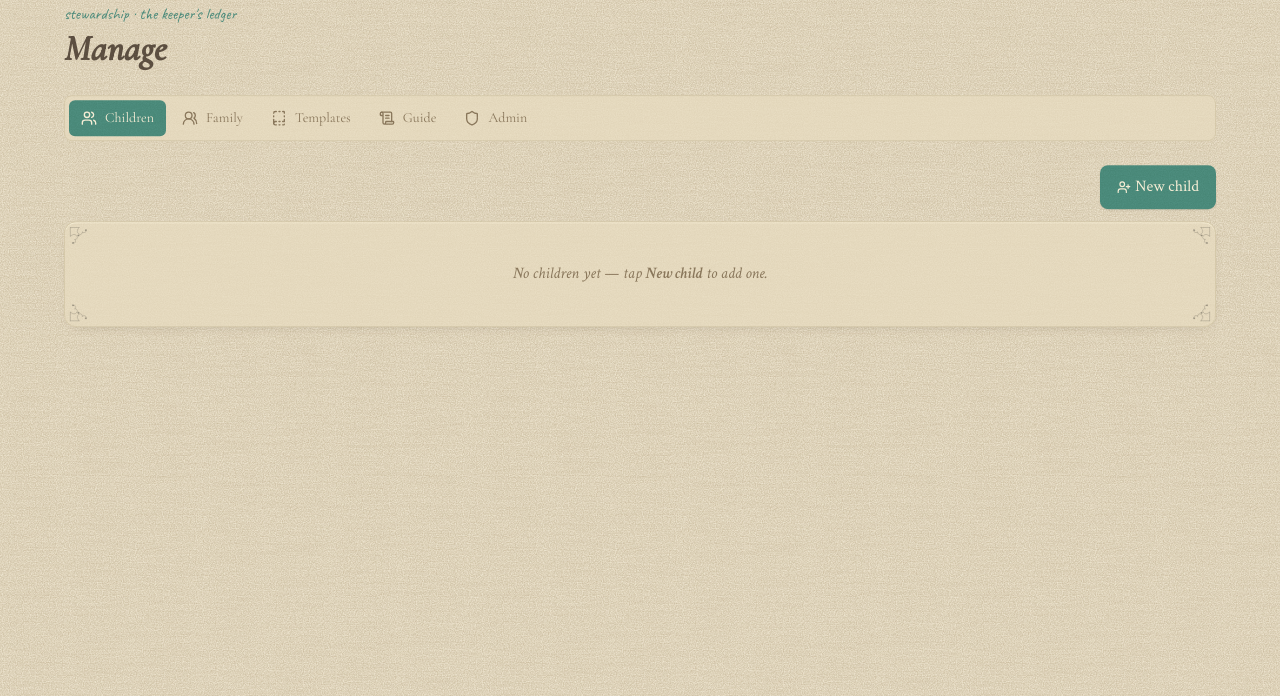
Test: Manage — Admin tab › shows the Admin tab when /api/admin/families/ returns 200 and posts a new family
Click the tab "Admin" at coordinates (496, 118), box [452, 100, 539, 136]
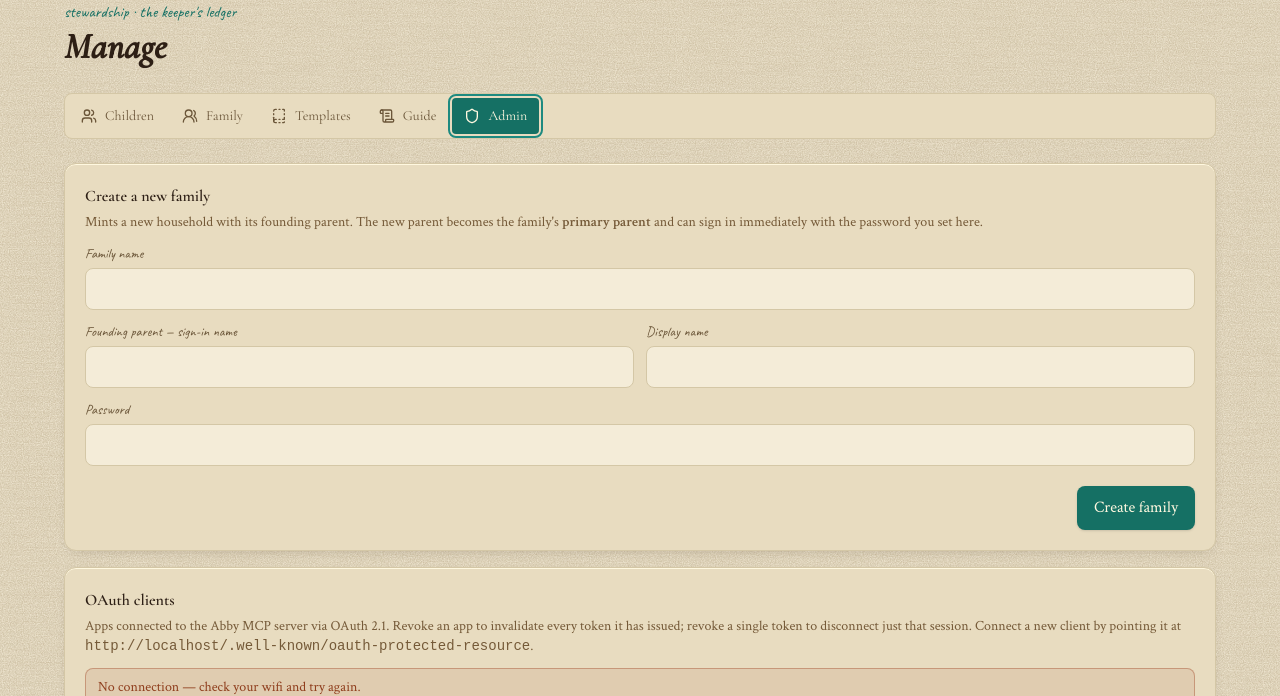
Type "New House" into the field labelled "Family name" at coordinates (640, 289), box [85, 268, 1195, 310]
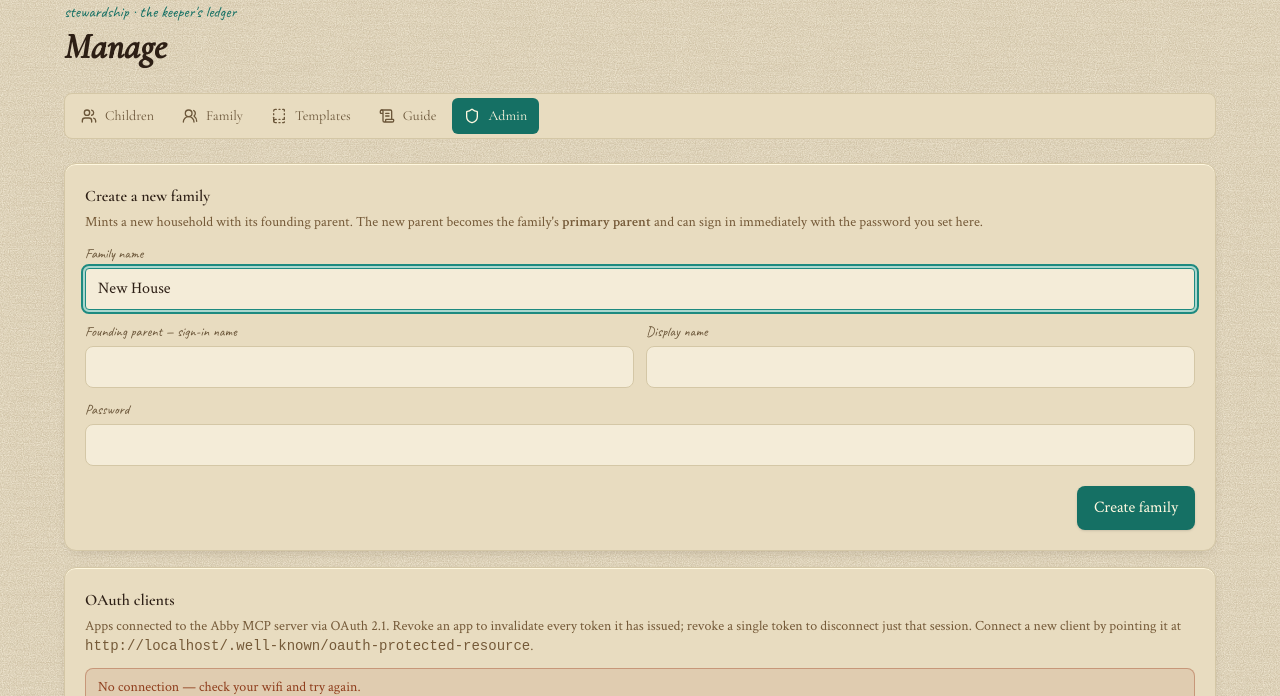
Type "founder" into the field labelled "Founding parent — sign-in name" at coordinates (360, 367), box [85, 346, 634, 388]
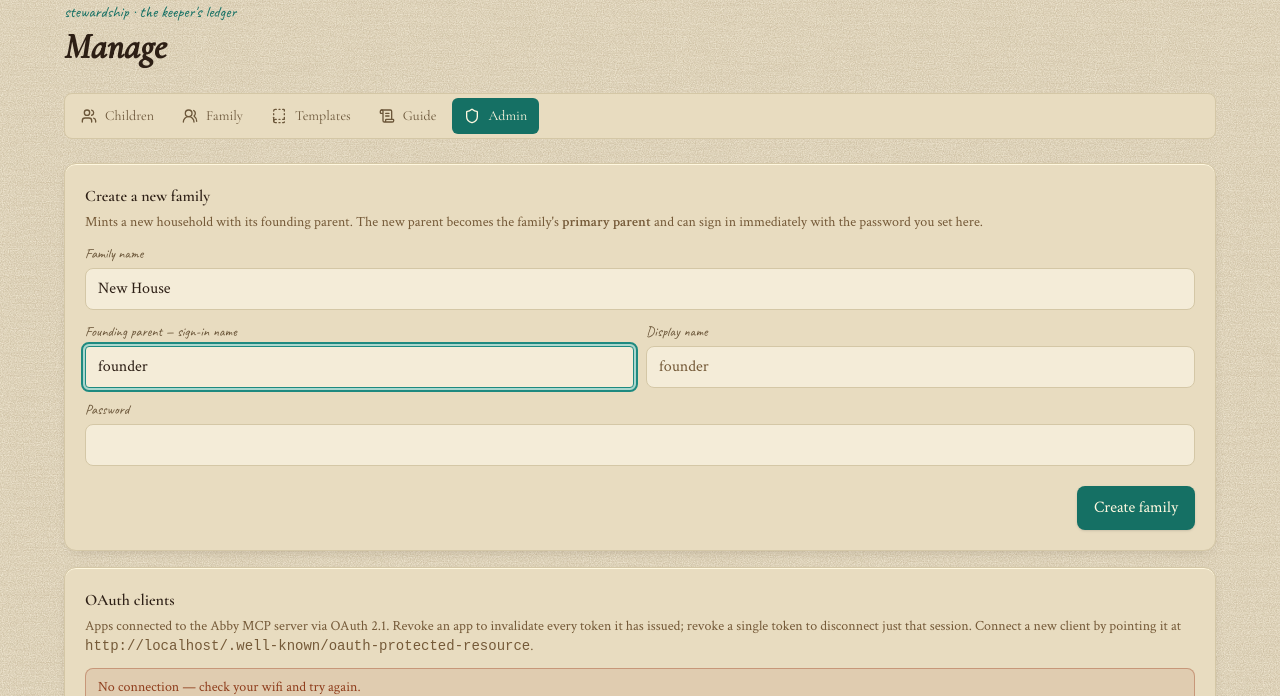
Type "ApbBy1!Strong" into the password field labelled "Password" at coordinates (640, 445), box [85, 424, 1195, 466]
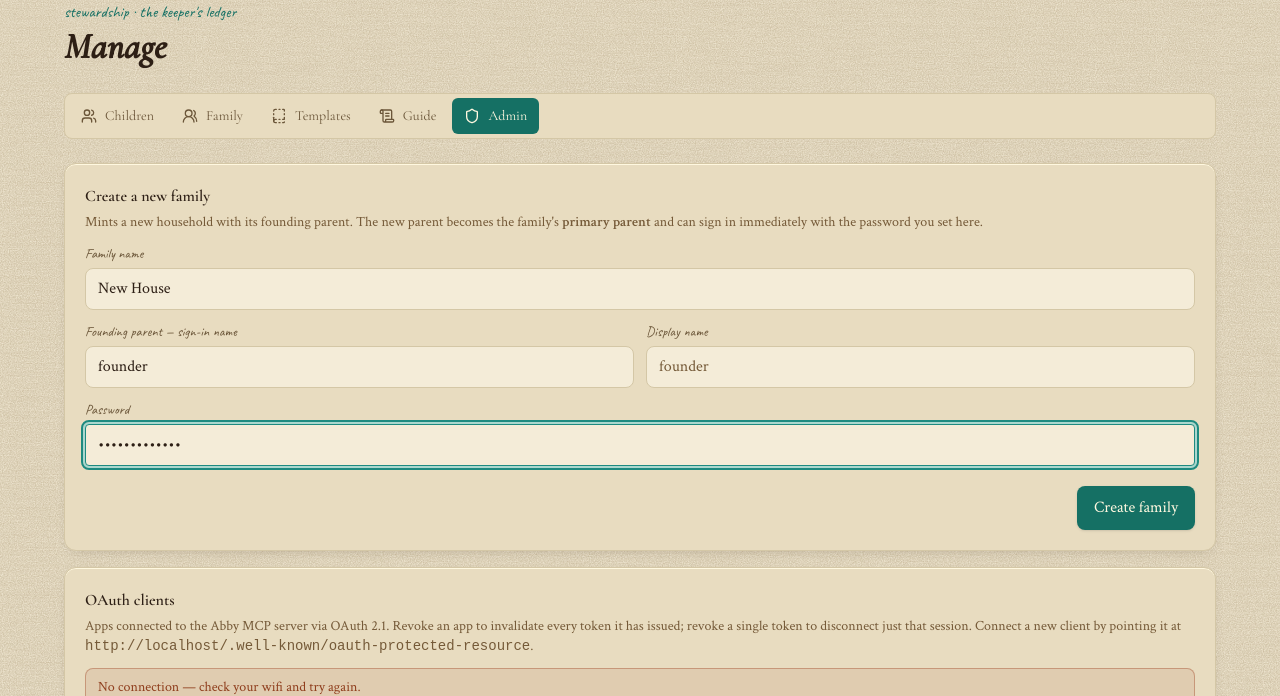
Click the button "Create family" at coordinates (1136, 508), box [1077, 486, 1195, 530]
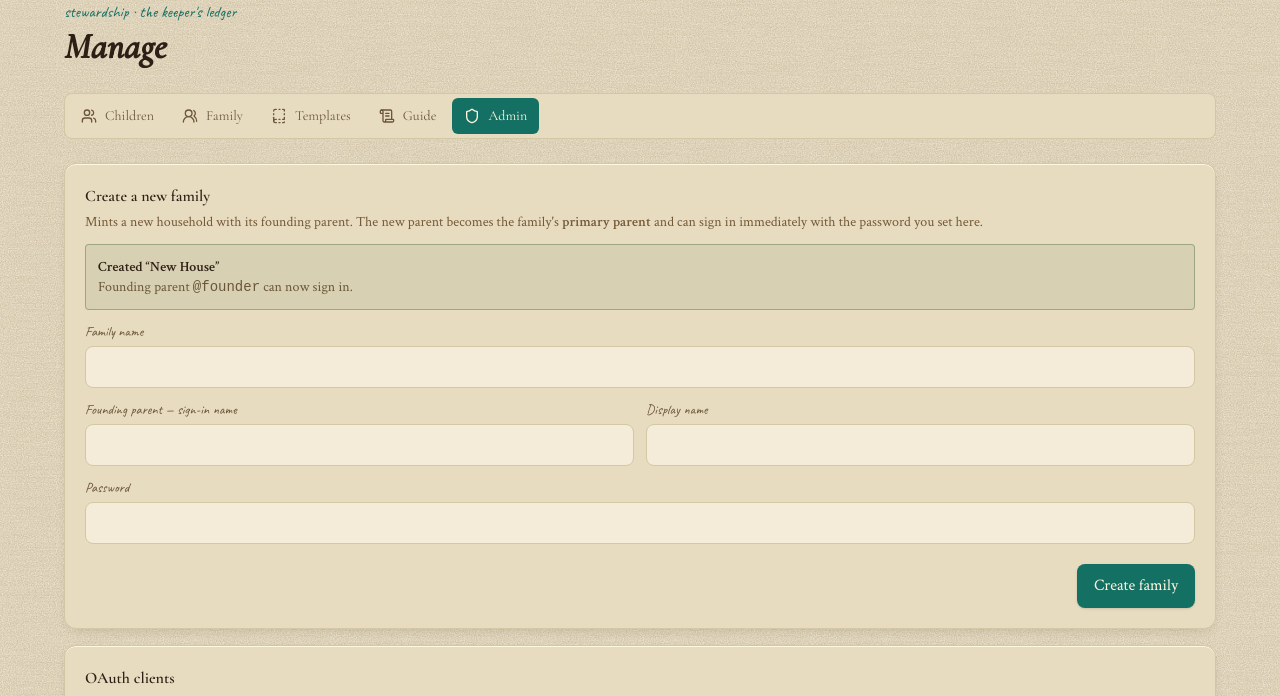
Now the text "Created “New House”" is shown, box [98, 258, 219, 276]
